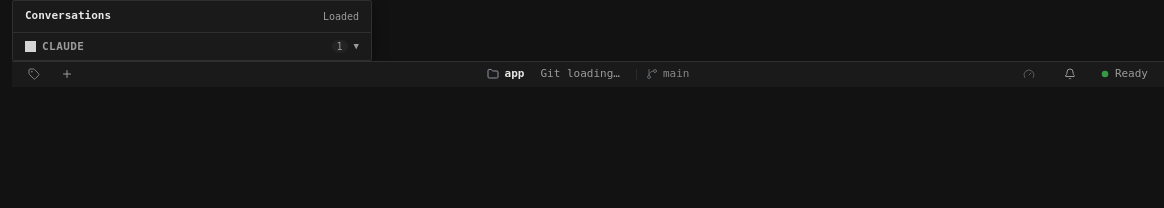
Test: resuming isolated-agent conversations from chat history › shows the removed-checkout notice, keeps it visible, and never binds the terminal to the removed checkout
Click the button "Claude 1 ▼".
click(63, 46)  # box 13,32 -> 371,60
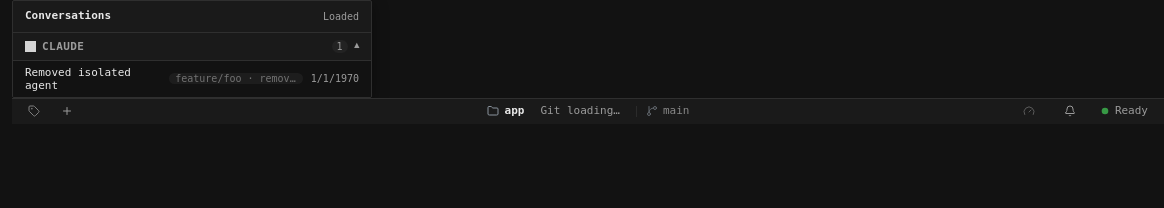
Click the button "Removed isolated agent feature/foo · removed 1/1/1970".
click(192, 78)  # box 13,60 -> 371,96
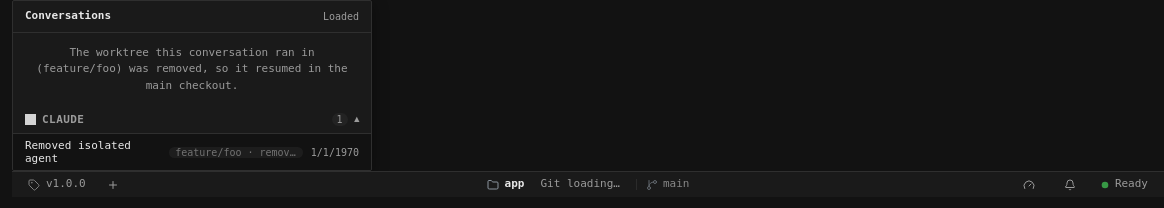
Check: the element with class "status-branch" reads "main", box 663,177 -> 689,190
Check: the message named "Conversation resume notice" shows "The worktree this conversation ran in (feature/foo) was removed, so it resumed in the main checkout.", box 36,46 -> 348,92
